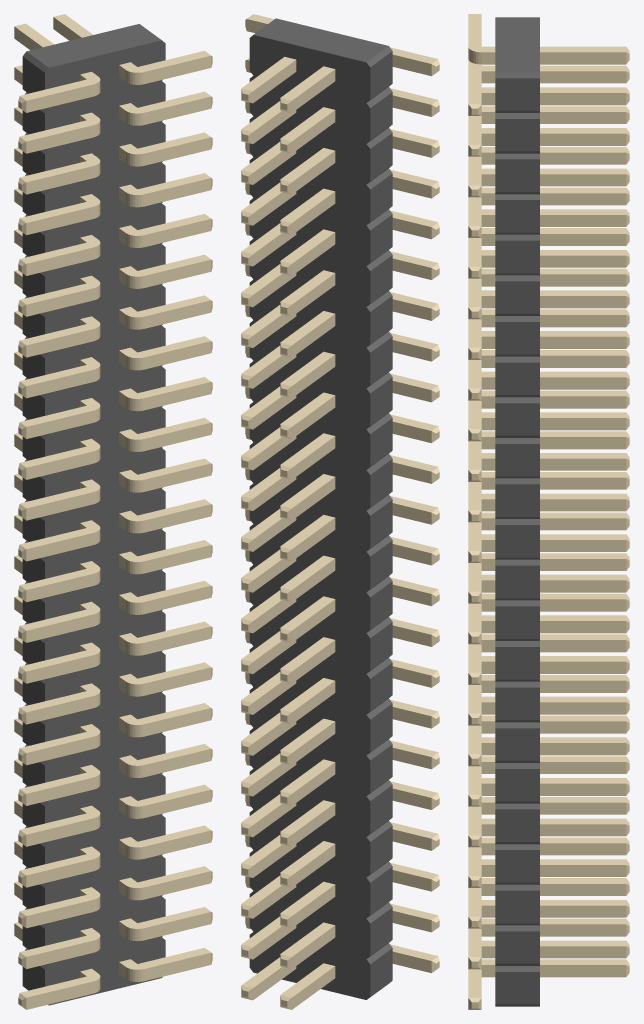
The model's file is PinHeader_2x23_P1.00mm_Vertical_SMD.glb.
3 renders of one model, left to right at view 1: azimuth 30°, elevation 25°; view 2: azimuth 150°, elevation 25°; view 3: azimuth 270°, elevation 25°, orthographic.
Parts seen in each view (by area): view 1: Shape_IndexedFaceSet.003, Shape_IndexedFaceSet.001, Shape_IndexedFaceSet.588, Shape_IndexedFaceSet.533, Shape_IndexedFaceSet.708, Shape_IndexedFaceSet.703, Shape_IndexedFaceSet.648, Shape_IndexedFaceSet.688, Shape_IndexedFaceSet.598, Shape_IndexedFaceSet.633, Shape_IndexedFaceSet.693, Shape_IndexedFaceSet.698 (+105 smaller); view 2: Shape_IndexedFaceSet.004, Shape_IndexedFaceSet.001, Shape_IndexedFaceSet.037, Shape_IndexedFaceSet.043, Shape_IndexedFaceSet.079, Shape_IndexedFaceSet.085, Shape_IndexedFaceSet.091, Shape_IndexedFaceSet.007, Shape_IndexedFaceSet.031, Shape_IndexedFaceSet.049, Shape_IndexedFaceSet.055, Shape_IndexedFaceSet.061 (+106 smaller); view 3: Shape_IndexedFaceSet.001, Shape_IndexedFaceSet.028, Shape_IndexedFaceSet.076, Shape_IndexedFaceSet.124, Shape_IndexedFaceSet.002, Shape_IndexedFaceSet.010, Shape_IndexedFaceSet.016, Shape_IndexedFaceSet.022, Shape_IndexedFaceSet.034, Shape_IndexedFaceSet.040, Shape_IndexedFaceSet.046, Shape_IndexedFaceSet.052 (+128 smaller).
Part boxes in pixels (x1,y1,x2,y2): Shape_IndexedFaceSet.003: (45, 40, 165, 1005); Shape_IndexedFaceSet.001: (27, 24, 161, 67); Shape_IndexedFaceSet.588: (26, 329, 93, 357); Shape_IndexedFaceSet.533: (144, 300, 211, 328); Shape_IndexedFaceSet.708: (144, 708, 211, 736); Shape_IndexedFaceSet.703: (26, 736, 93, 765); Shape_IndexedFaceSet.648: (26, 492, 93, 520); Shape_IndexedFaceSet.688: (26, 818, 93, 846); Shape_IndexedFaceSet.598: (26, 288, 93, 316); Shape_IndexedFaceSet.633: (144, 463, 211, 491); Shape_IndexedFaceSet.693: (26, 859, 93, 887); Shape_IndexedFaceSet.698: (144, 830, 211, 858); Shape_IndexedFaceSet.004: (249, 35, 370, 999); Shape_IndexedFaceSet.001: (253, 18, 388, 62); Shape_IndexedFaceSet.037: (370, 255, 392, 303); Shape_IndexedFaceSet.043: (370, 296, 392, 344); Shape_IndexedFaceSet.079: (370, 540, 392, 588); Shape_IndexedFaceSet.085: (370, 581, 392, 629); Shape_IndexedFaceSet.091: (370, 622, 392, 670); Shape_IndexedFaceSet.007: (370, 51, 392, 99); Shape_IndexedFaceSet.031: (370, 214, 392, 262); Shape_IndexedFaceSet.049: (370, 337, 392, 384); Shape_IndexedFaceSet.055: (370, 377, 392, 425); Shape_IndexedFaceSet.061: (370, 418, 392, 466); Shape_IndexedFaceSet.001: (495, 17, 539, 72); Shape_IndexedFaceSet.028: (495, 240, 539, 273); Shape_IndexedFaceSet.076: (495, 565, 539, 598); Shape_IndexedFaceSet.124: (495, 890, 539, 923); Shape_IndexedFaceSet.002: (495, 78, 539, 110); Shape_IndexedFaceSet.010: (495, 119, 539, 151); Shape_IndexedFaceSet.016: (495, 159, 539, 191); Shape_IndexedFaceSet.022: (495, 200, 539, 232); Shape_IndexedFaceSet.034: (495, 281, 539, 313); Shape_IndexedFaceSet.040: (495, 322, 539, 354); Shape_IndexedFaceSet.046: (495, 362, 539, 394); Shape_IndexedFaceSet.052: (495, 403, 539, 435).
Size of the model in its own units: 1.93 by 9.06 by 1.42.
